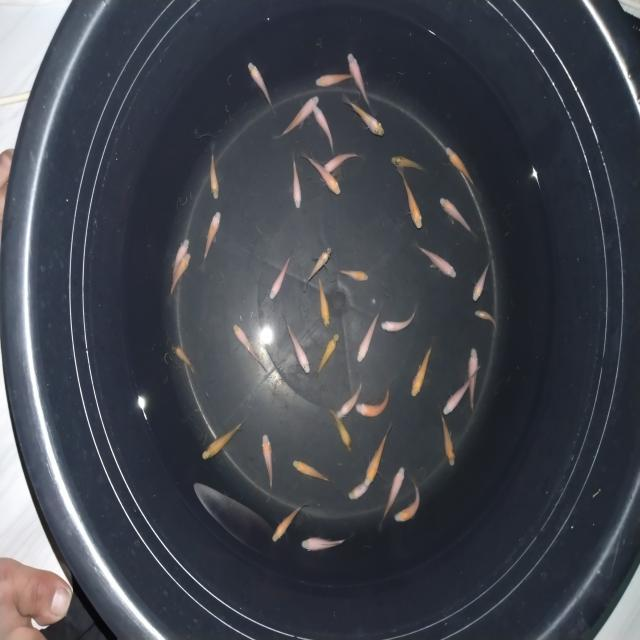nila: (270, 93, 321, 145), (441, 363, 483, 418), (362, 421, 395, 489), (202, 414, 247, 462), (340, 95, 390, 138), (394, 167, 426, 234), (303, 150, 346, 198), (436, 194, 484, 237), (345, 53, 378, 115), (418, 238, 462, 284), (440, 142, 480, 192), (280, 314, 312, 376), (379, 458, 407, 528), (434, 406, 462, 472), (243, 61, 277, 115), (311, 328, 345, 382), (408, 336, 437, 399), (393, 474, 428, 524), (228, 323, 266, 369), (462, 344, 484, 422), (354, 307, 384, 363), (310, 102, 338, 158), (264, 254, 296, 301), (352, 382, 392, 419), (270, 505, 307, 545), (198, 210, 223, 268), (168, 250, 196, 300), (290, 455, 332, 488), (471, 254, 496, 306), (302, 246, 332, 288), (376, 305, 421, 333), (386, 150, 434, 176), (320, 146, 364, 174), (327, 404, 352, 452), (334, 380, 364, 420), (298, 532, 352, 554), (315, 273, 334, 333), (259, 432, 276, 498), (288, 152, 306, 214), (169, 234, 191, 284), (170, 342, 200, 376), (344, 476, 378, 503), (312, 72, 361, 90), (208, 143, 222, 204), (474, 308, 501, 336), (340, 268, 372, 284)
